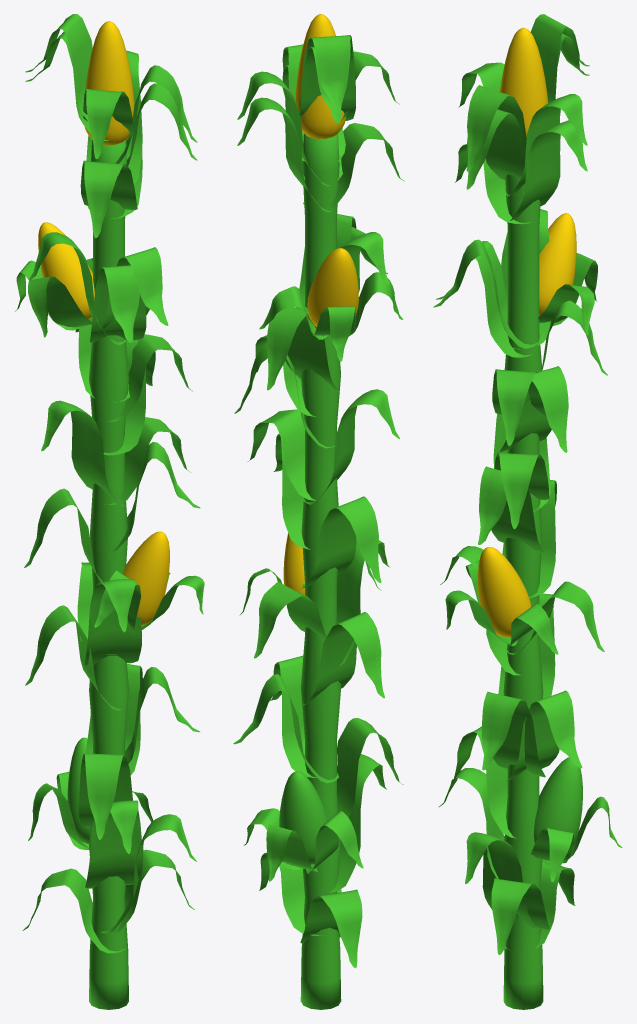
Rendered from Mais (1).fbx.
The picture shows the model from 3 angles, left to right: view 1: azimuth 30°, elevation 25°; view 2: azimuth 150°, elevation 25°; view 3: azimuth 270°, elevation 25°; orthographic projection.
Parts seen in each view (by area): view 1: Cylinder, Cylinder.001; view 2: Cylinder, Cylinder.001; view 3: Cylinder, Cylinder.001.
Boxes of the visible parts, bbox=[...] form: Cylinder: bbox=[15, 14, 204, 1009]; Cylinder.001: bbox=[22, 31, 200, 1008]; Cylinder: bbox=[234, 14, 404, 1009]; Cylinder.001: bbox=[233, 44, 403, 1009]; Cylinder: bbox=[433, 14, 622, 1009]; Cylinder.001: bbox=[436, 33, 607, 1008].
Bounding box in the file's own units: 47.12 × 289 × 51.03.
